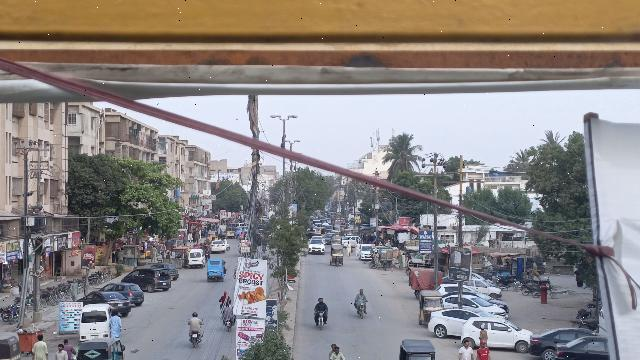Bike: (313, 309, 328, 333), (354, 300, 369, 321), (188, 331, 201, 350), (223, 314, 234, 334)
Car: (460, 314, 533, 350), (528, 324, 593, 360), (442, 294, 509, 321), (552, 336, 612, 360), (428, 307, 472, 338), (77, 290, 130, 315), (119, 267, 172, 292), (98, 281, 146, 306)
Person: (30, 334, 49, 360), (107, 310, 123, 340), (456, 340, 475, 360), (328, 341, 345, 360), (187, 311, 203, 331), (475, 341, 491, 360), (476, 324, 490, 345), (69, 277, 81, 300), (53, 343, 69, 360), (218, 289, 232, 308), (62, 337, 74, 358), (315, 295, 327, 310), (354, 287, 366, 301), (222, 303, 233, 318)
Rickshaw: (416, 288, 443, 329), (76, 339, 127, 360), (398, 337, 437, 360), (204, 258, 227, 282), (329, 244, 345, 268)
Van: (79, 301, 112, 340), (187, 248, 206, 270)
